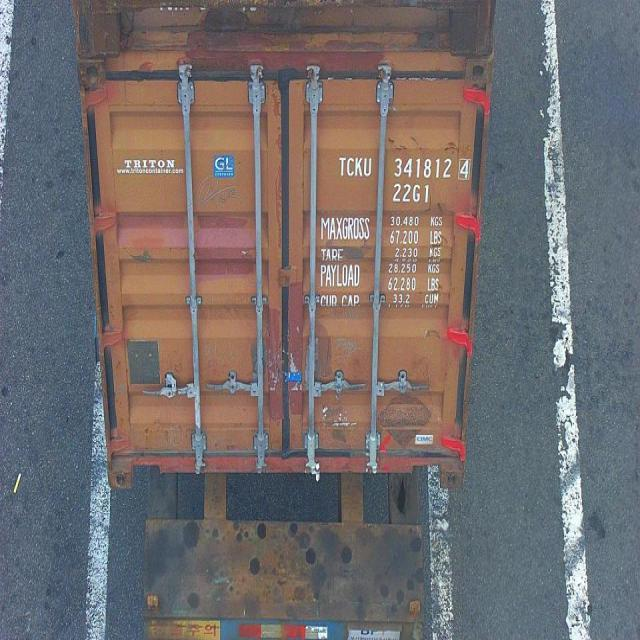ISO: (394, 183, 431, 204)
container_number: (337, 154, 469, 180)
